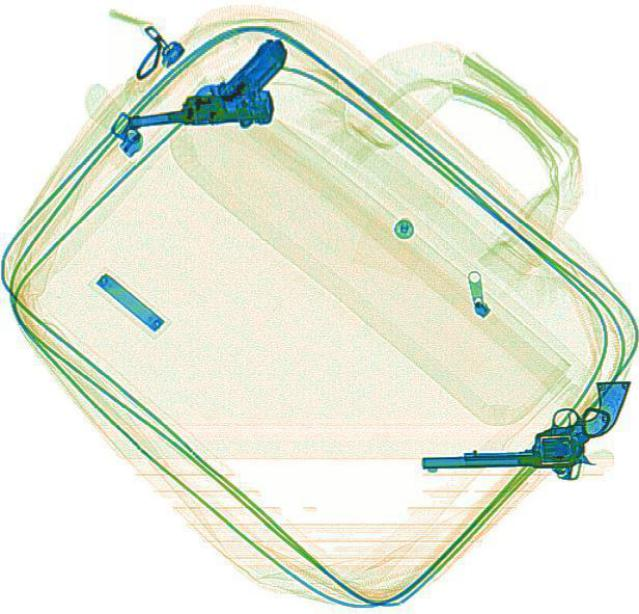Gun: (418, 378, 631, 467), (116, 34, 296, 137)
